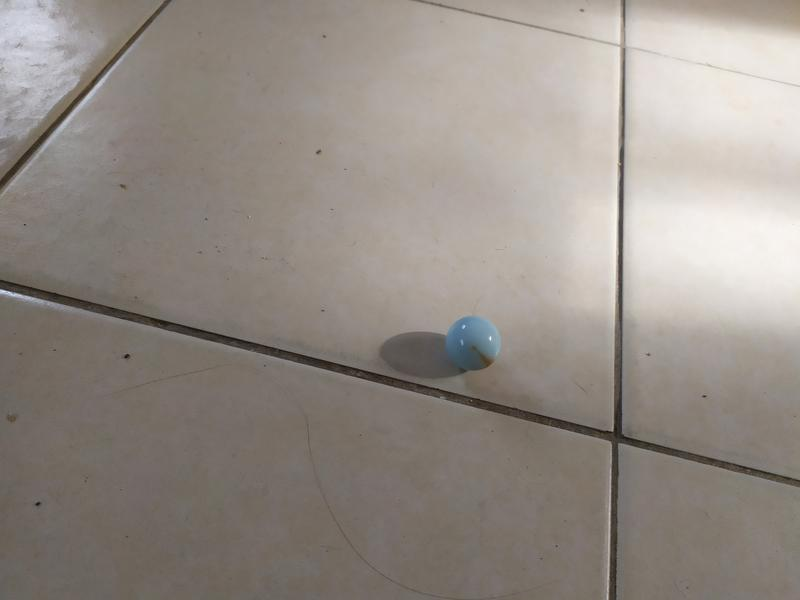Warning: (442, 313, 504, 374)
